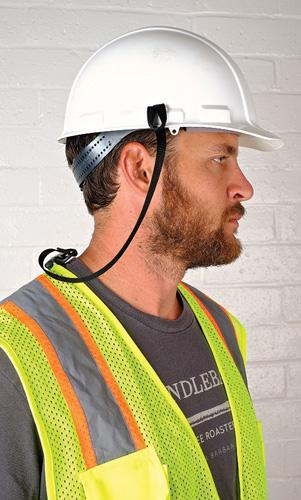helmet: (50, 29, 286, 151)
